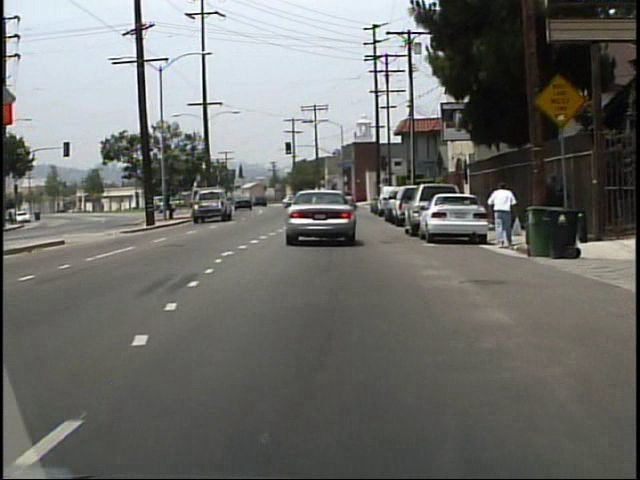person: (488, 179, 520, 251)
